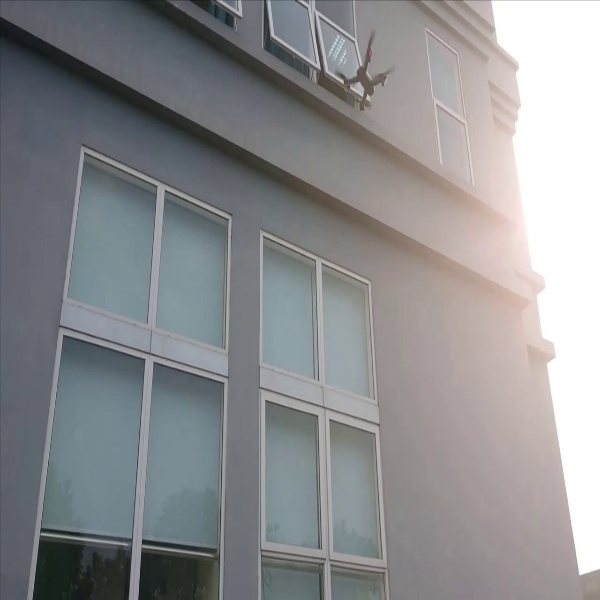drone: (334, 30, 403, 114)
